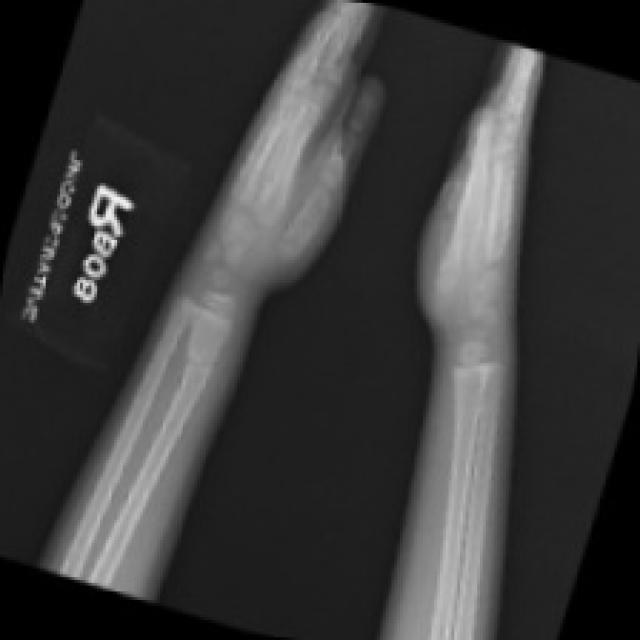fracture: (170, 322, 238, 413)
